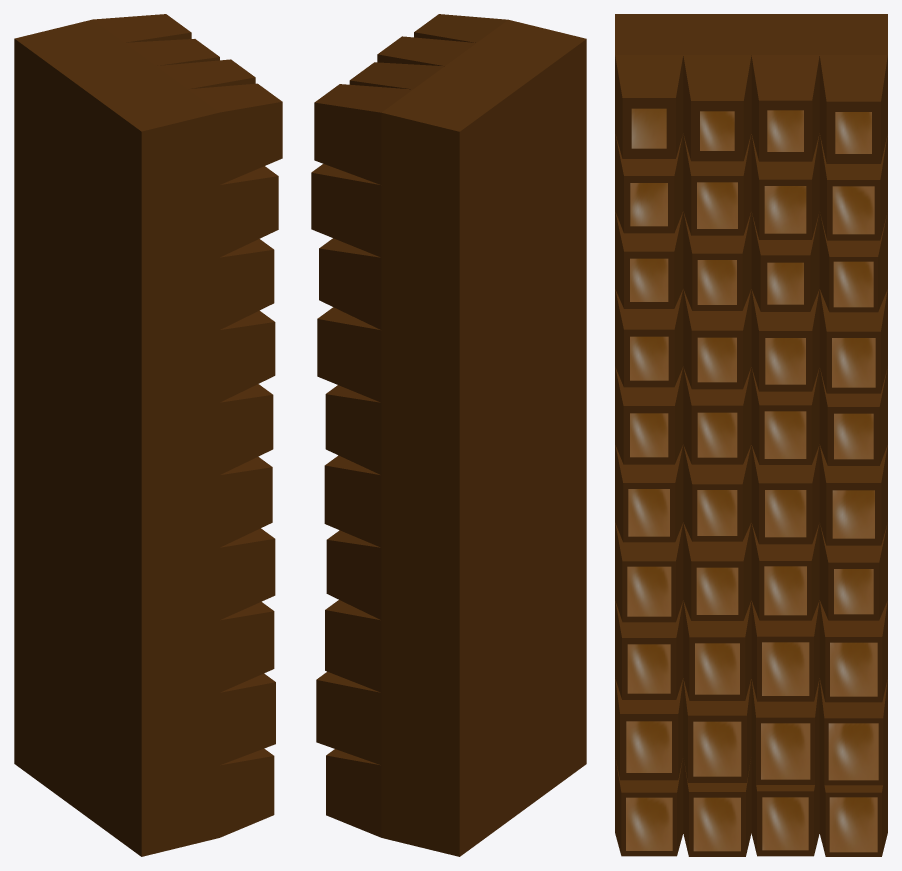
File: chocolate bar building.fbx
The picture shows the model from 3 angles, left to right: view 1: azimuth 30°, elevation 25°; view 2: azimuth 150°, elevation 25°; view 3: azimuth 270°, elevation 25°; orthographic projection. The views are drawn at different scales.
Parts seen in each view (by area): view 1: pCube1; view 2: pCube1; view 3: pCube1.
Part boxes in pixels (x1,y1,x2,y2): pCube1: [14, 14, 282, 856]; pCube1: [311, 14, 586, 856]; pCube1: [615, 14, 887, 856].
Bounding box in the file's own units: 3.1 × 14.11 × 4.48.
1 material, 1 textured.
